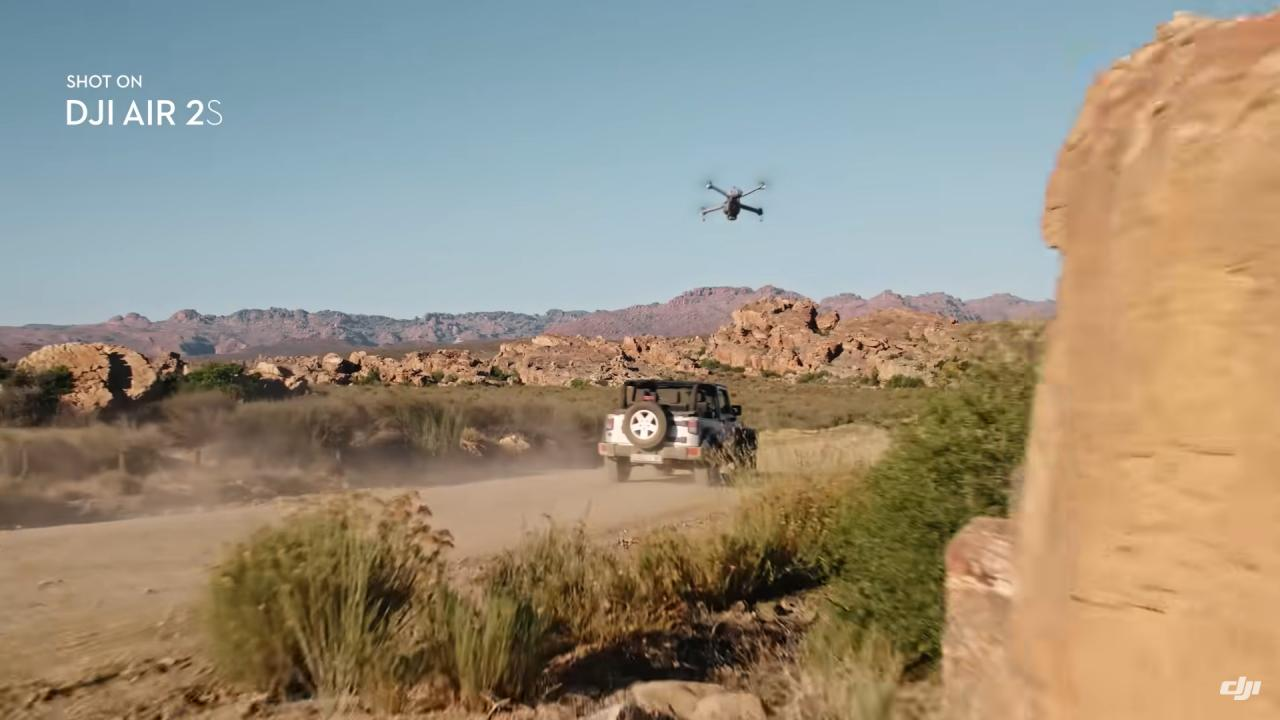Drone: (681, 163, 788, 234)
